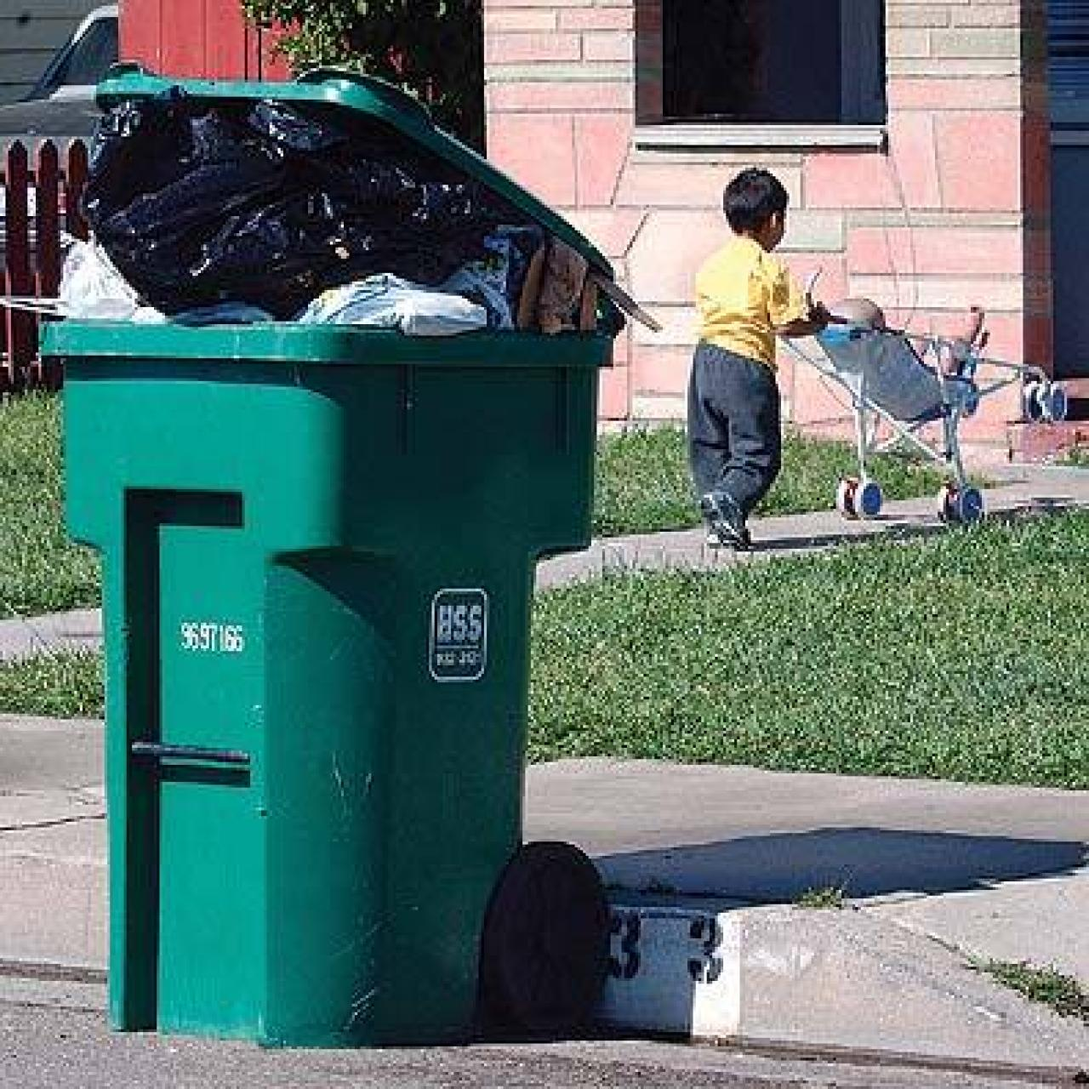bin_full: (43, 64, 649, 1045)
